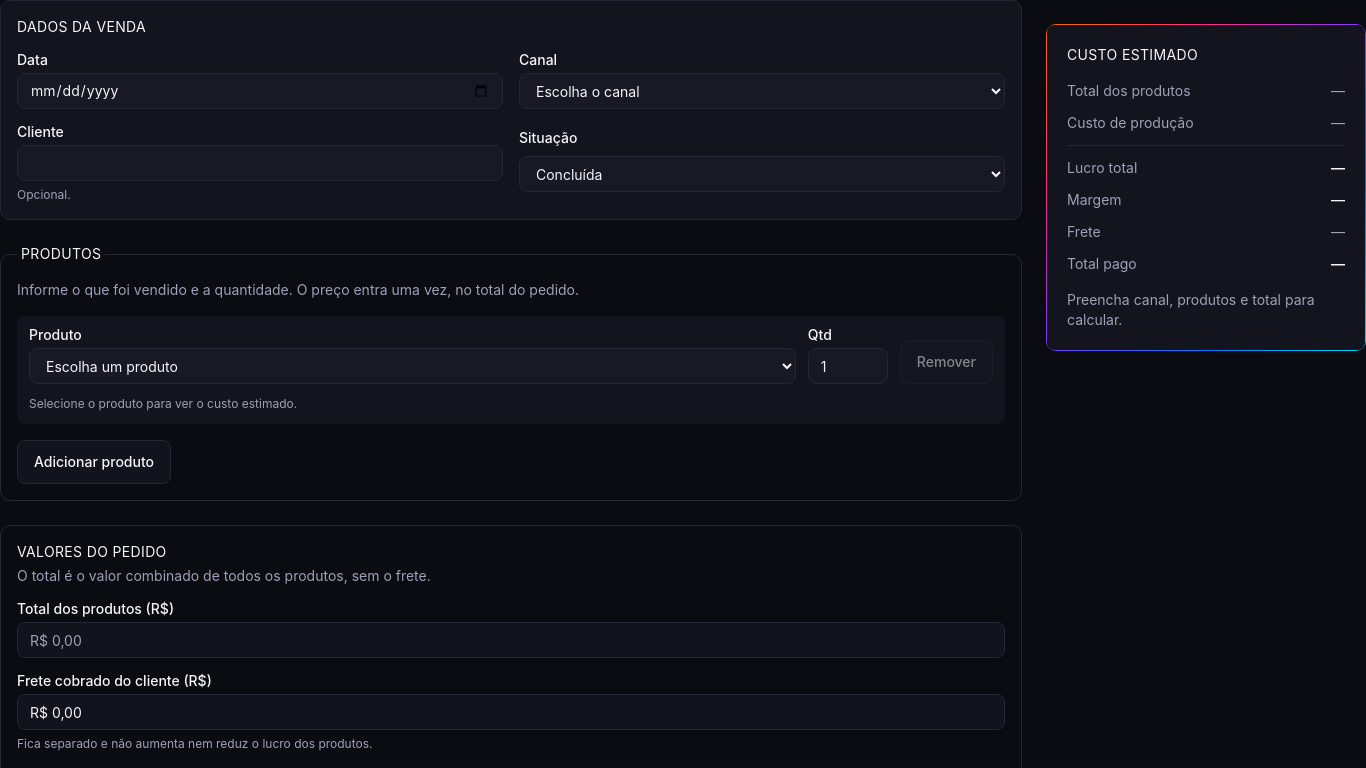
uma resposta antiga não substitui a prévia mais recente
In the date field labelled "Data": (260, 91) [17,73,503,109], type "2026-08-08"
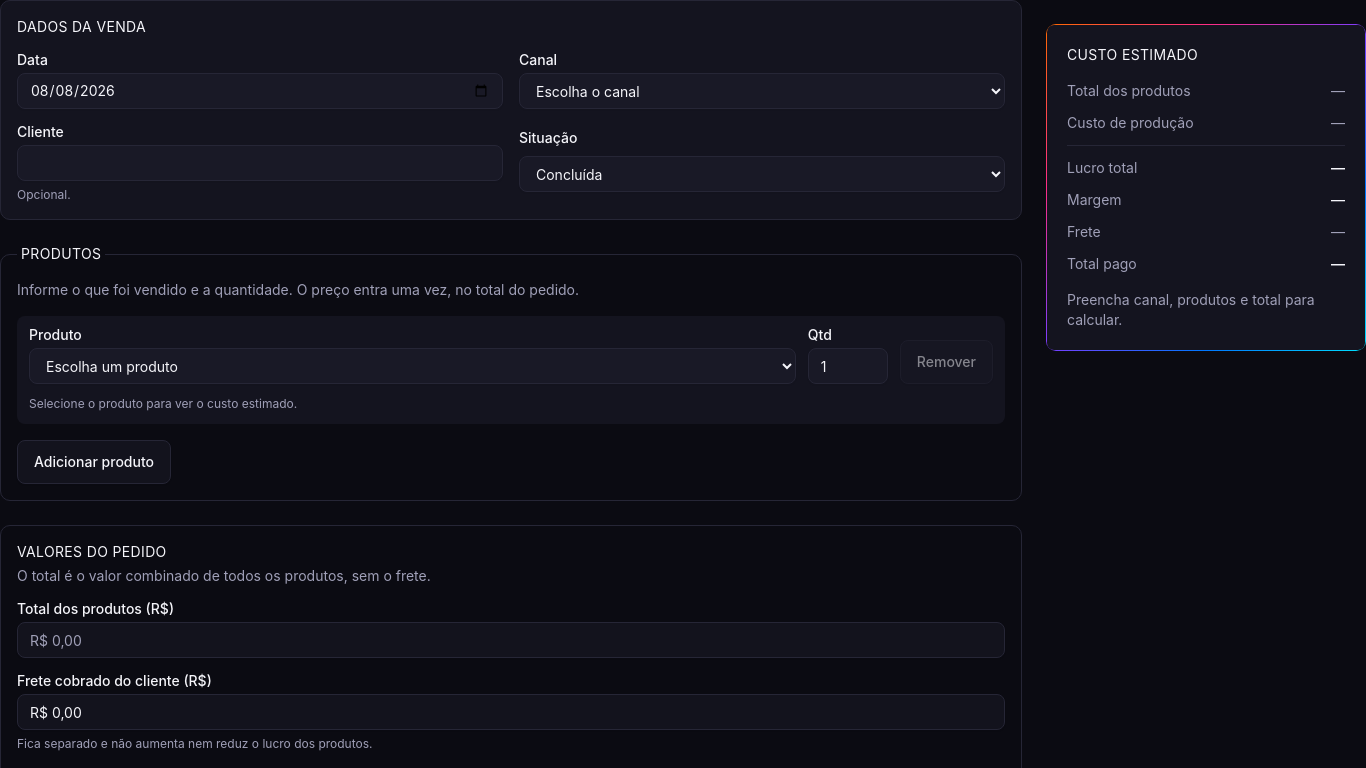
Select "Shopee" in the dropdown labelled "Canal": (762, 91) [519,73,1005,109]
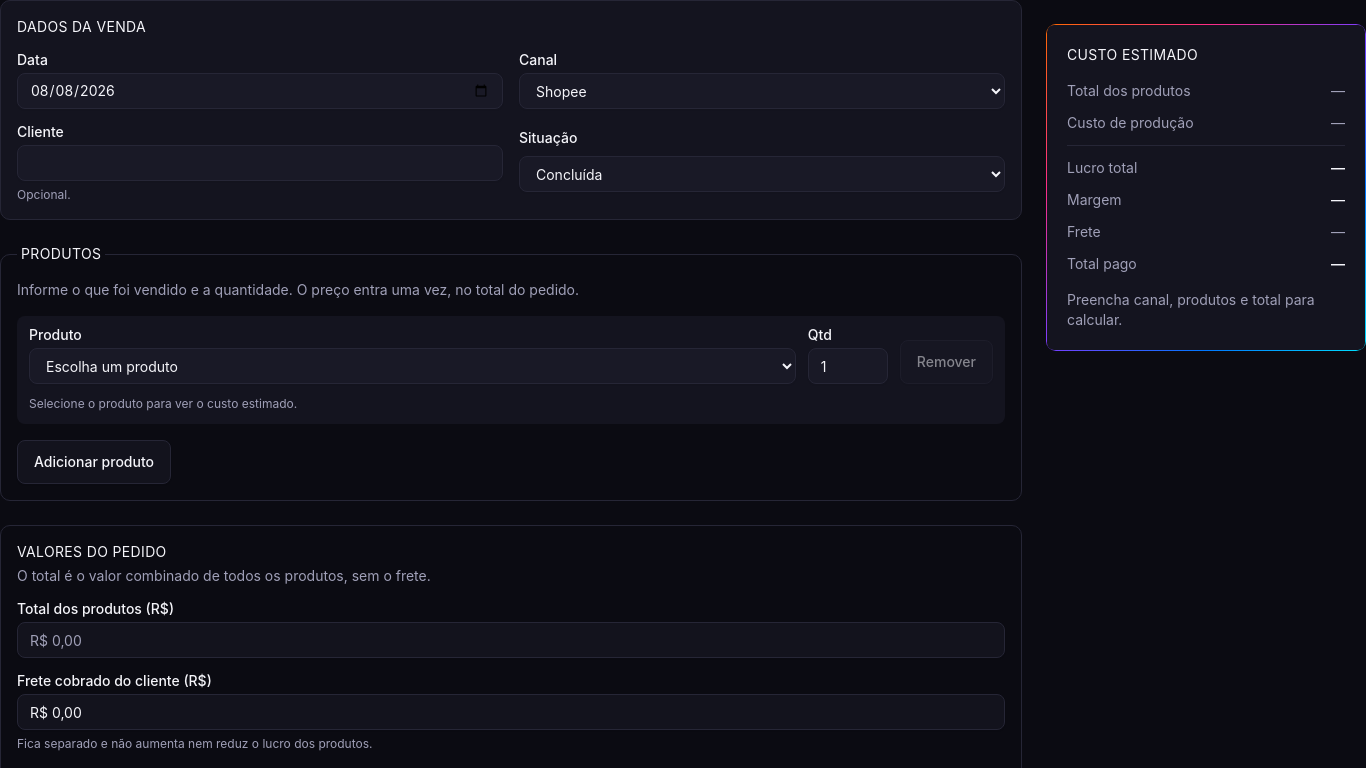
Select "Caneca" in the dropdown labelled "Produto": (412, 366) [29,348,796,384]
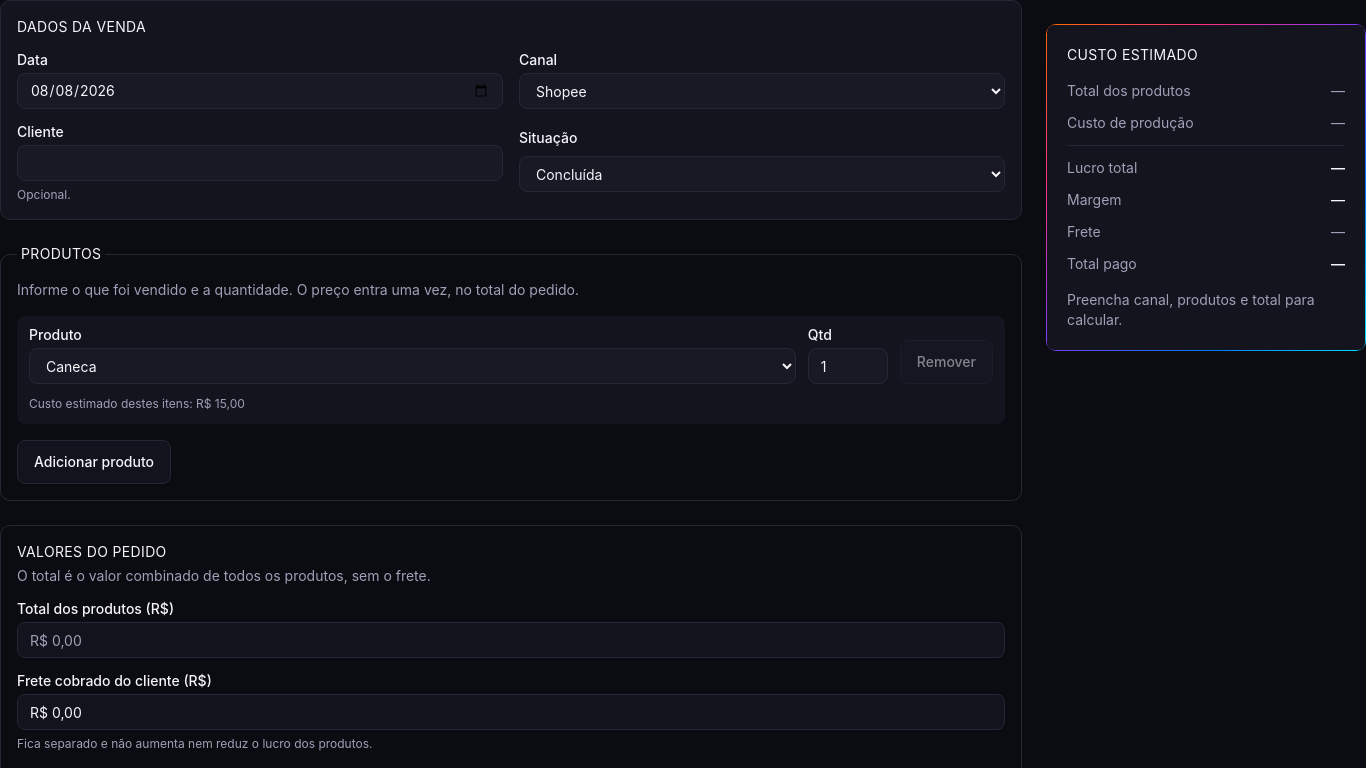
In the field labelled "Total dos produtos (R$)": (511, 640) [17,622,1005,658], type "8000"
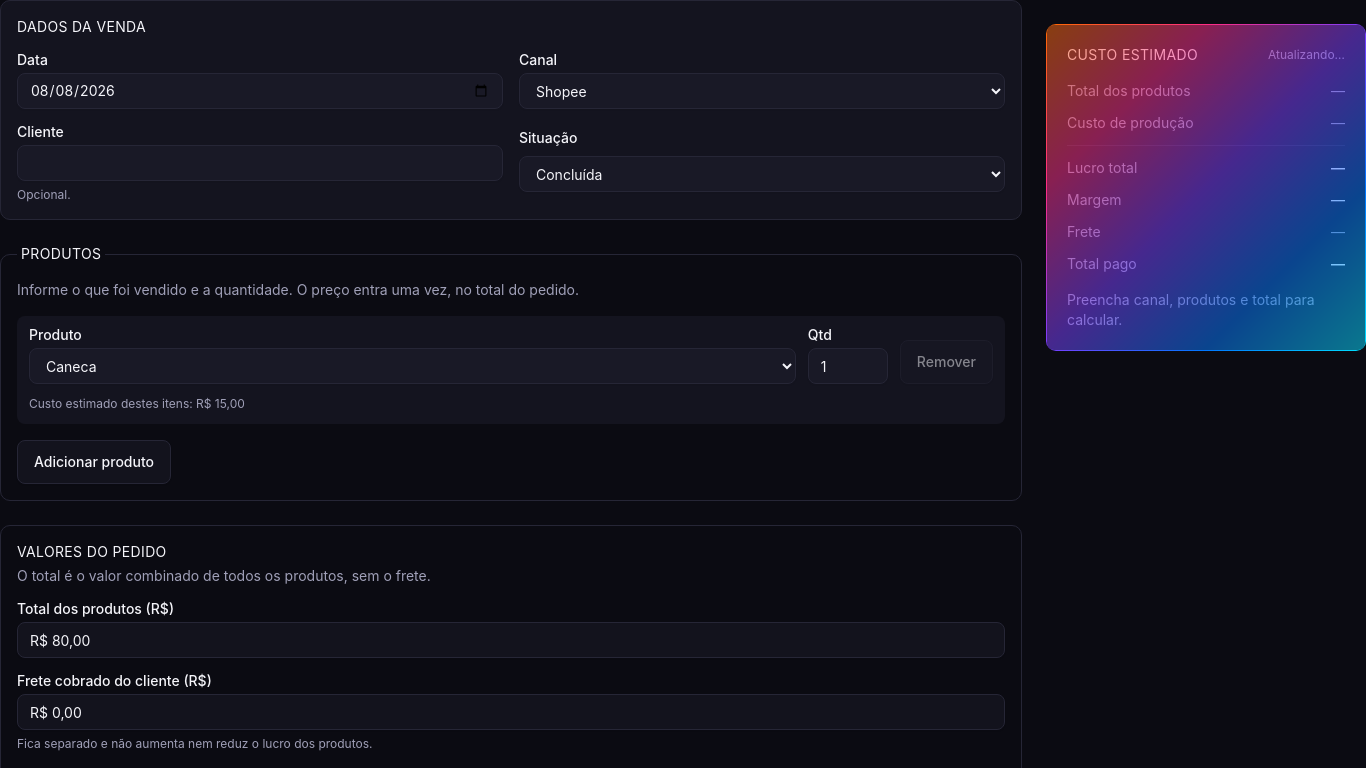
Replace the text in the field labelled "Total dos produtos (R$)" with "10000": (511, 640) [17,622,1005,658]
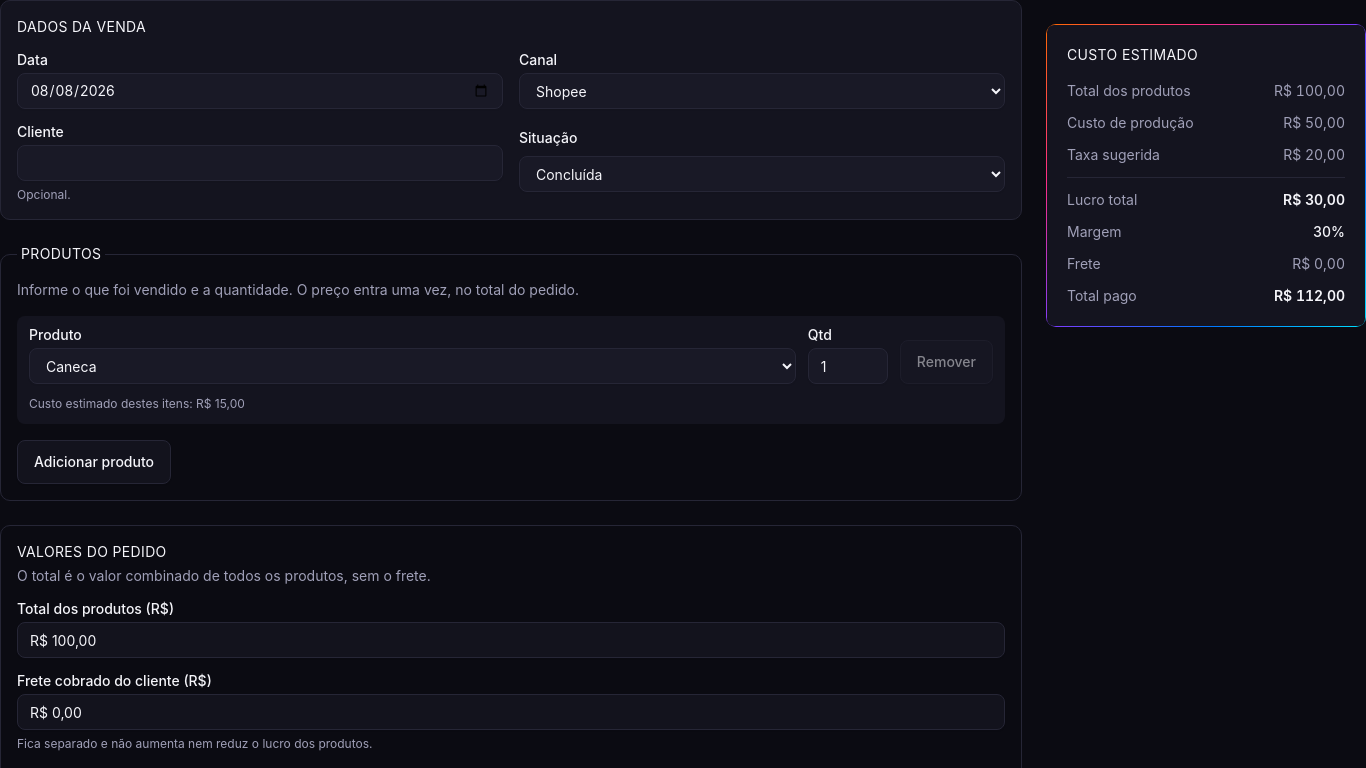
Now the text "R$ 30,00" is shown, box [1283,190,1345,210]
